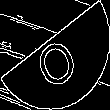O_NW: (28, 22, 82, 88)
